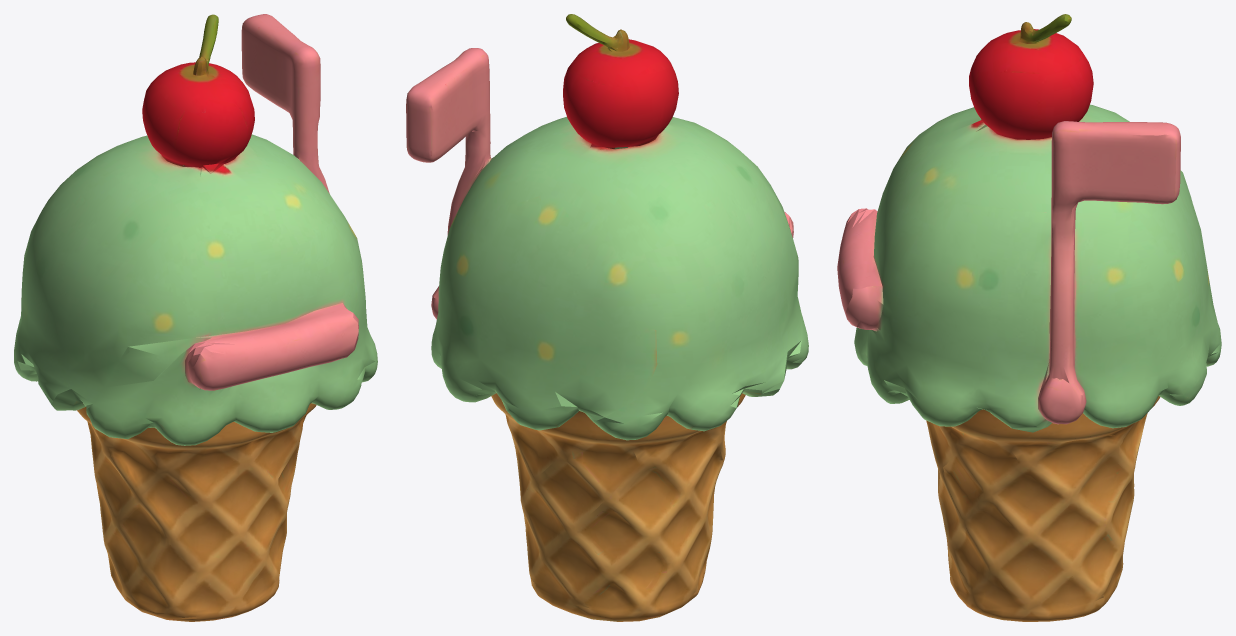
File: scoop-mailbox.glb
3 views of the same model, side by side, from view 1: azimuth 30°, elevation 25°; view 2: azimuth 150°, elevation 25°; view 3: azimuth 270°, elevation 25° (orthographic). The views are drawn at different scales.
Parts seen in each view (by area): view 1: Mesh_0; view 2: Mesh_0; view 3: Mesh_0.
Boxes of the visible parts, x1=… form: Mesh_0: x1=14, y1=14, x2=377, y2=621; Mesh_0: x1=406, y1=14, x2=808, y2=621; Mesh_0: x1=837, y1=14, x2=1221, y2=621.
Bounding box in the file's own units: 0.5821 × 1 × 0.5857.
1 material, 1 textured.
